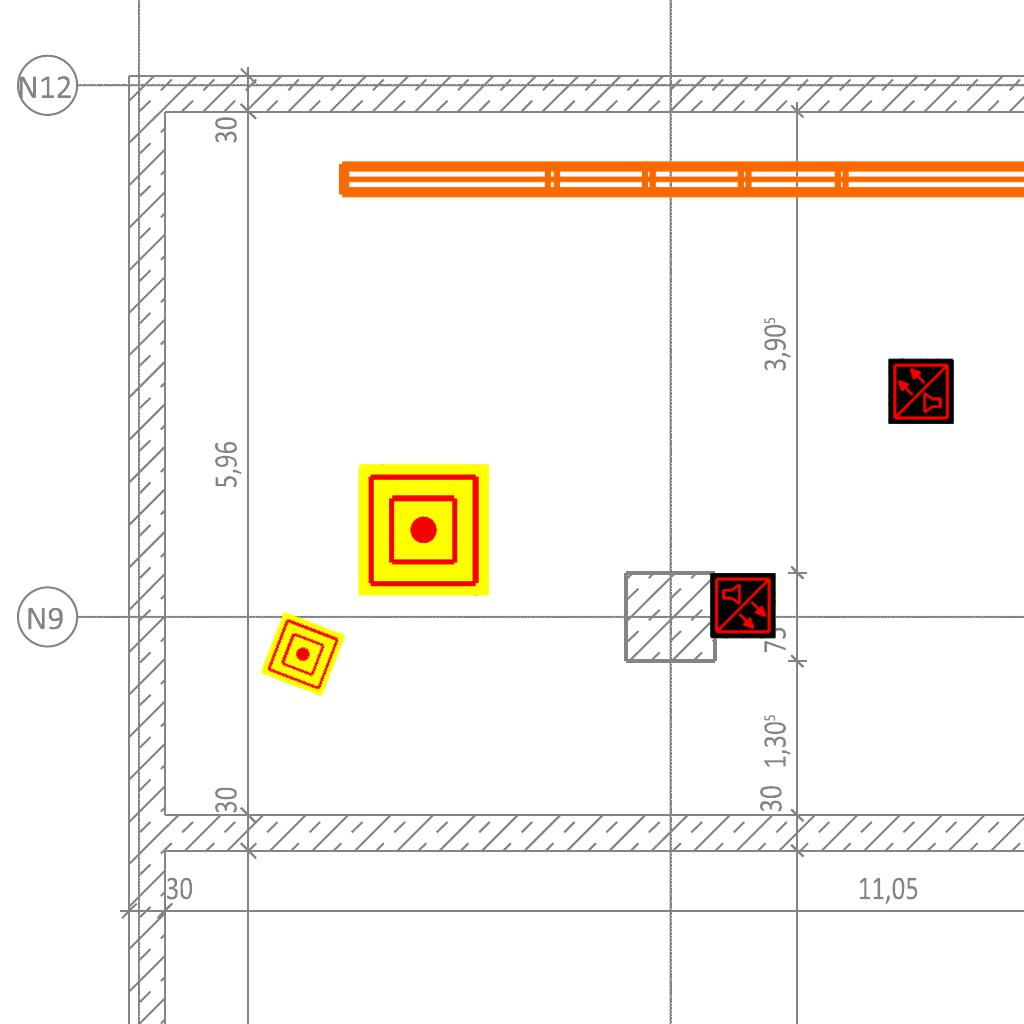Ambulanz_Pendelleuchte_LED: (328, 98, 1024, 210)
NAM-Nichtautomatischer_Melder: (358, 464, 490, 596), (260, 611, 346, 697)
OKW_Multisensormelder_(Kombination_optischer_Rauch-Kahlenmonoxid_Waerme-Melder): (710, 573, 776, 639), (888, 358, 954, 424)
